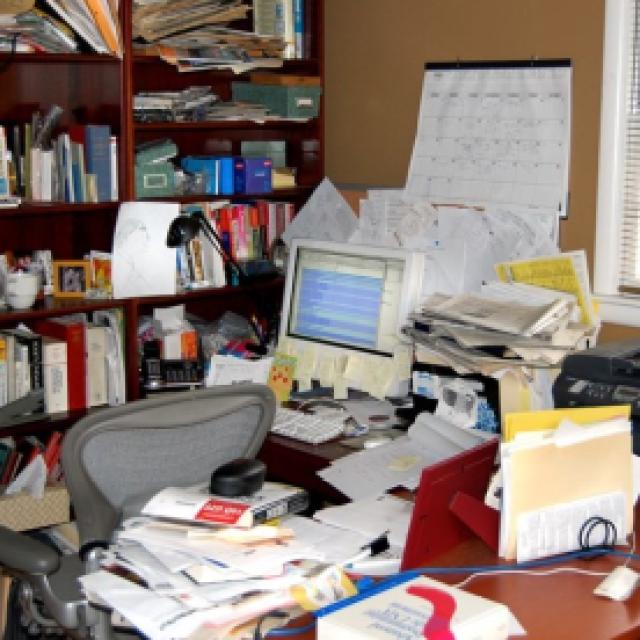mess: (69, 401, 640, 640), (255, 137, 640, 417)
